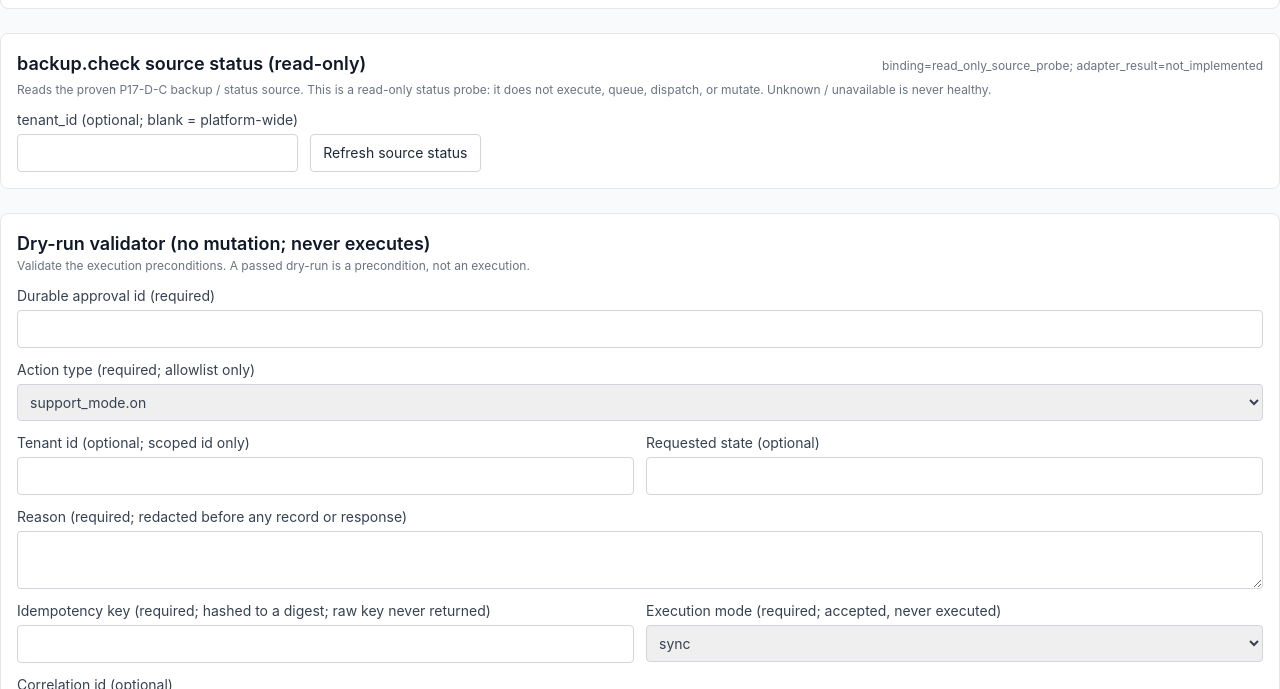
it: PlatformControlledExecutionConsolePage › P22-P16: editing correlation id after a passed dry-run forces a fresh dry-run
(page scrolled)
Type "appr-1" into the field with test id "p22-approval-input" at (640,329), box [17,310,1263,348]
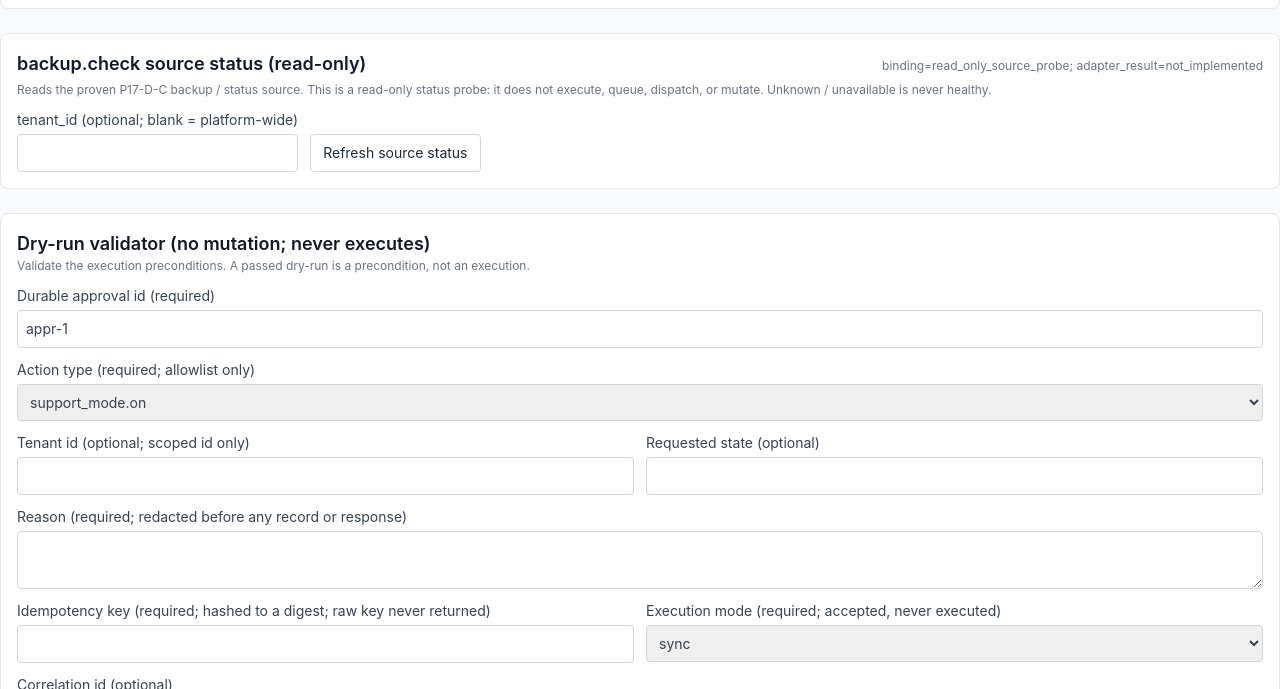
Type "routine review" into the text box with test id "p22-reason-input" at (640,560), box [17,531,1263,589]
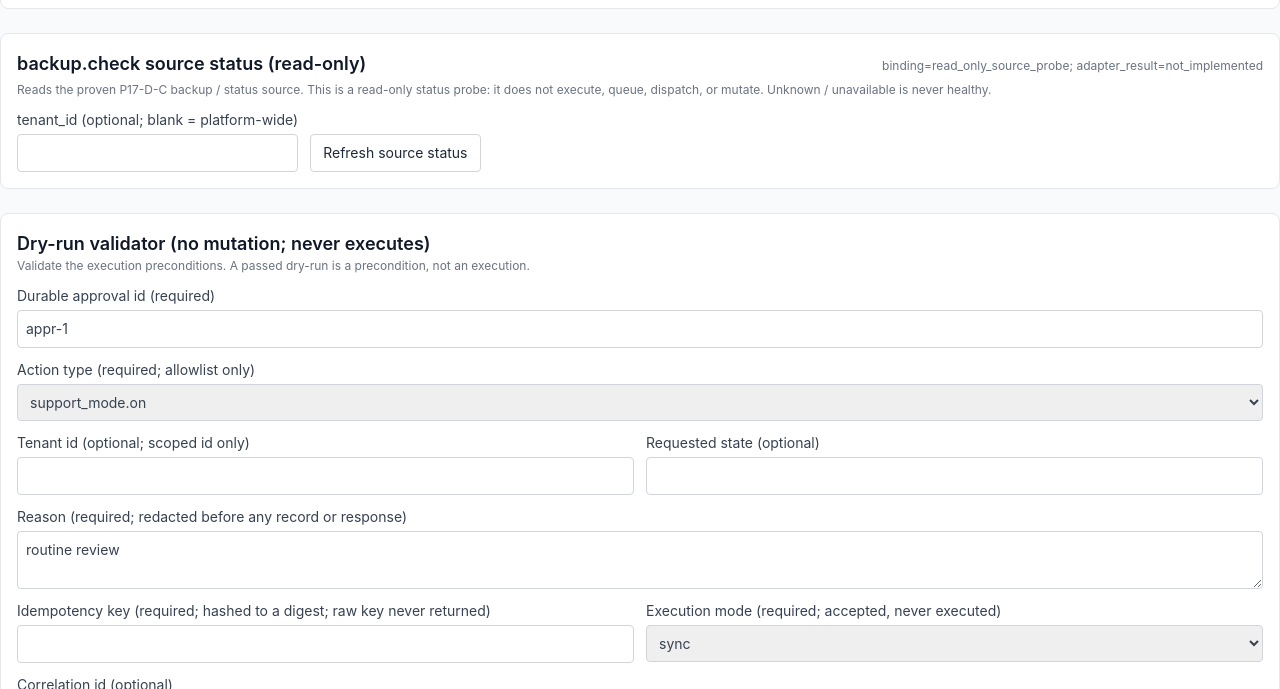
Type "RAW-SECRET-KEY-XYZ" into the field with test id "p22-idempotency-input" at (326,644), box [17,625,634,663]
(page scrolled)
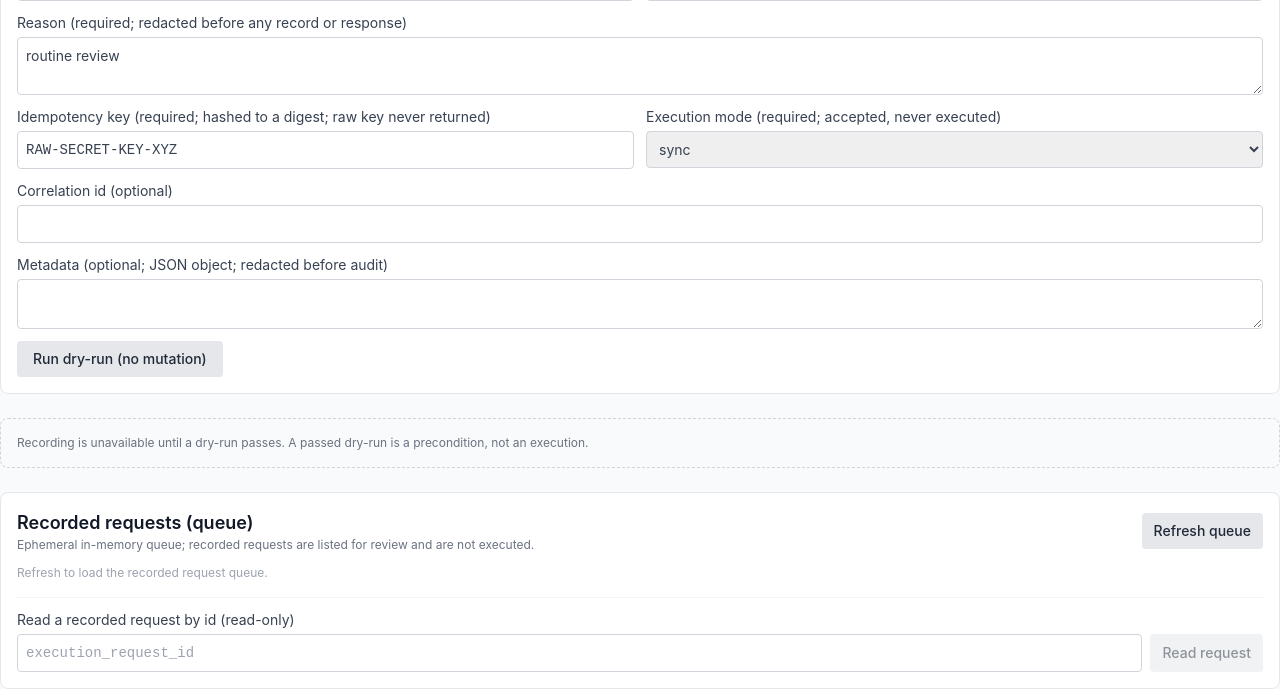
Click the button with test id "p22-dry-run-btn" at (120,359), box [17,341,223,377]
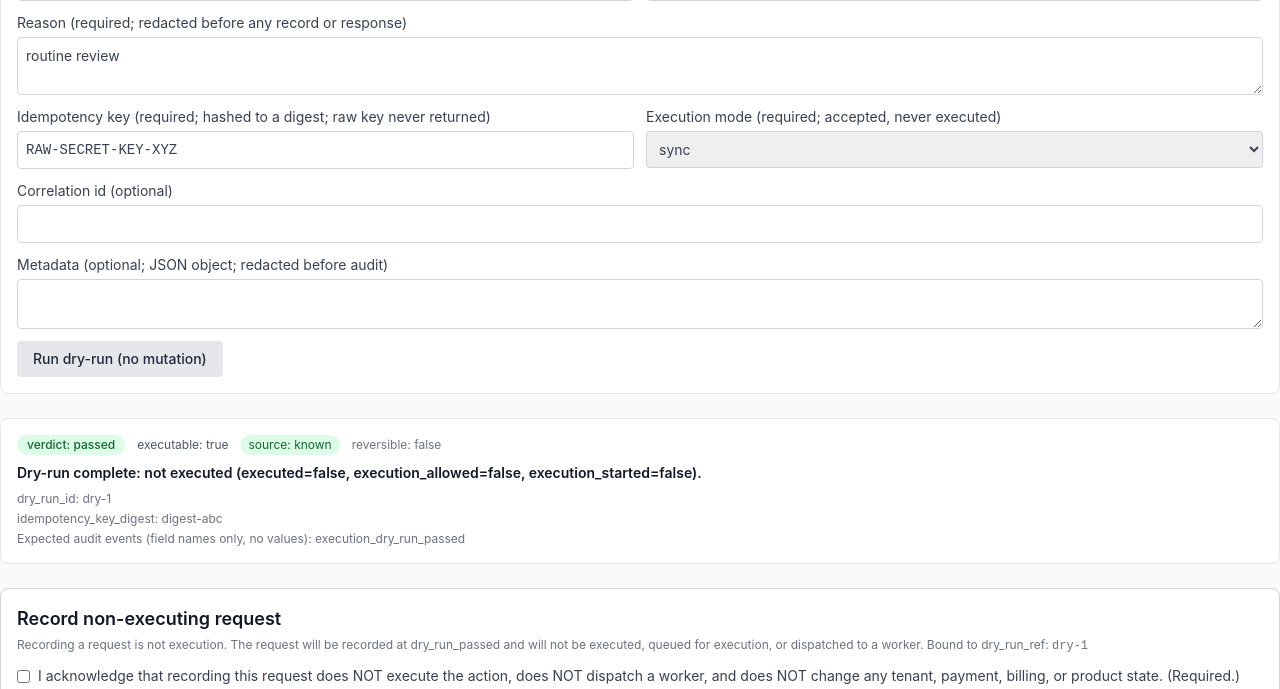
Click the checkbox with test id "p22-ack-input" at (24,676), box [17,670,30,683]
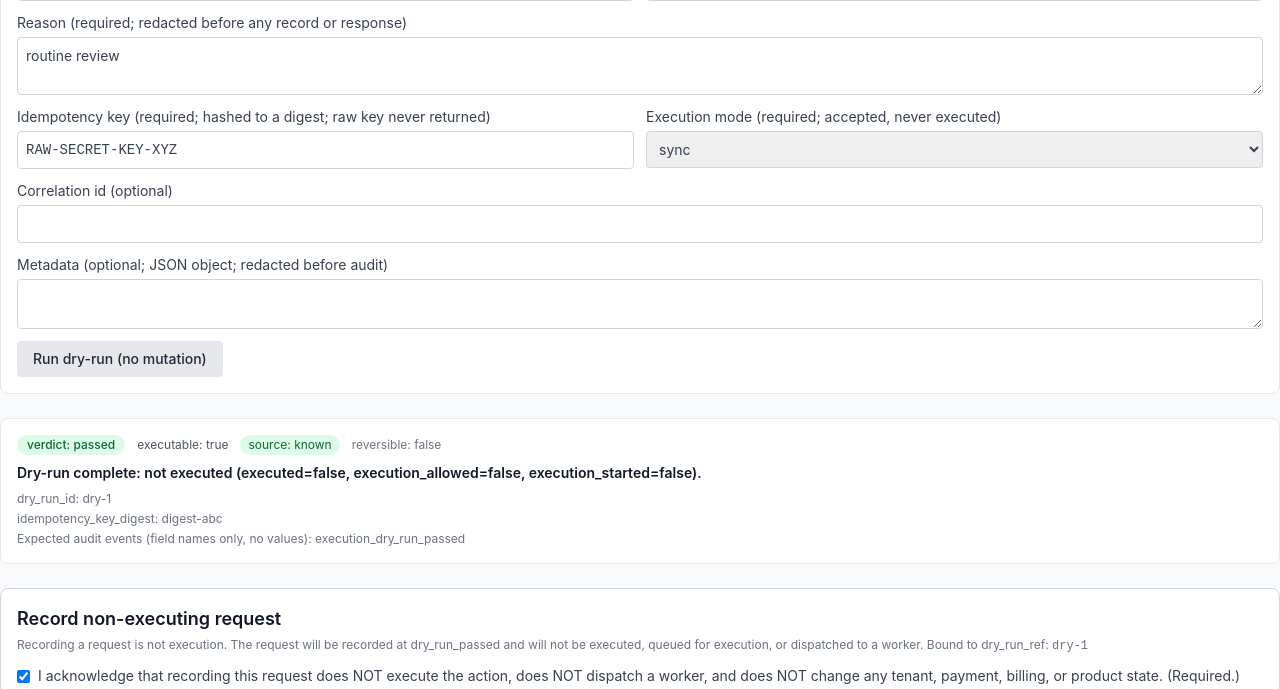
Type "corr-changed-789" into the field with test id "p22-correlation-input" at (640,224), box [17,205,1263,243]
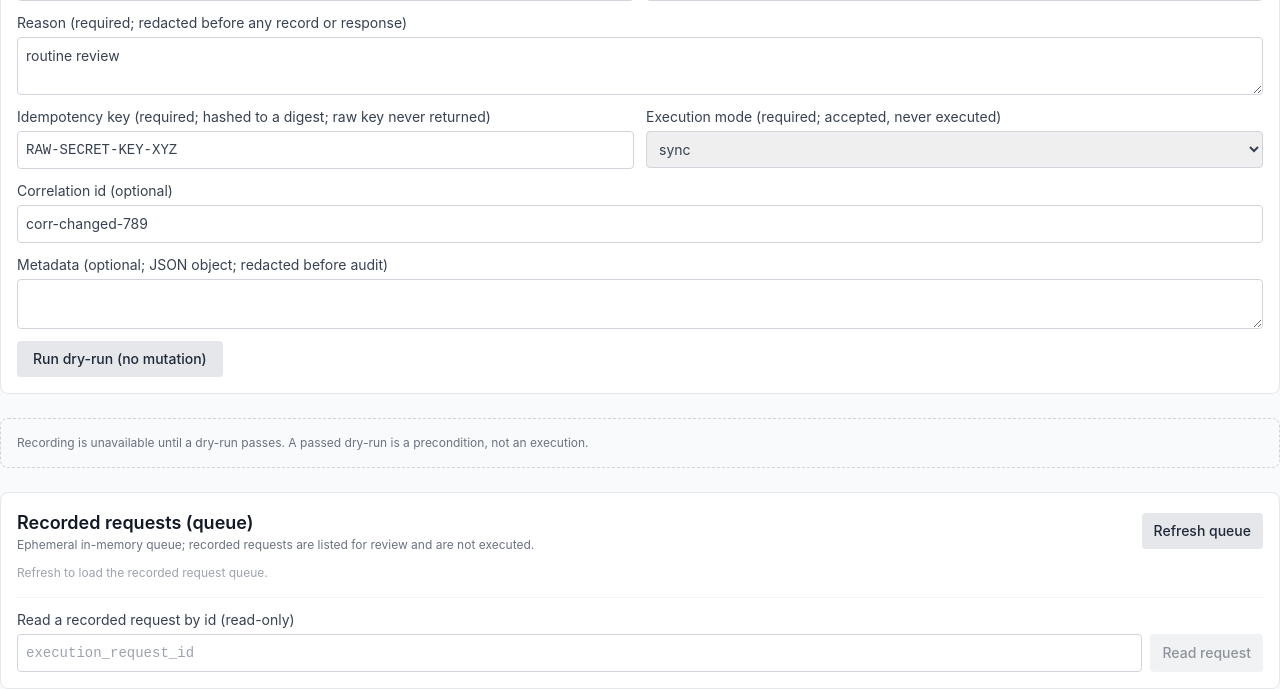
Now the checkbox with test id "p22-ack-input" is gone
Now the element with test id "p22-record-disabled" is shown, box [0,418,1279,468]
